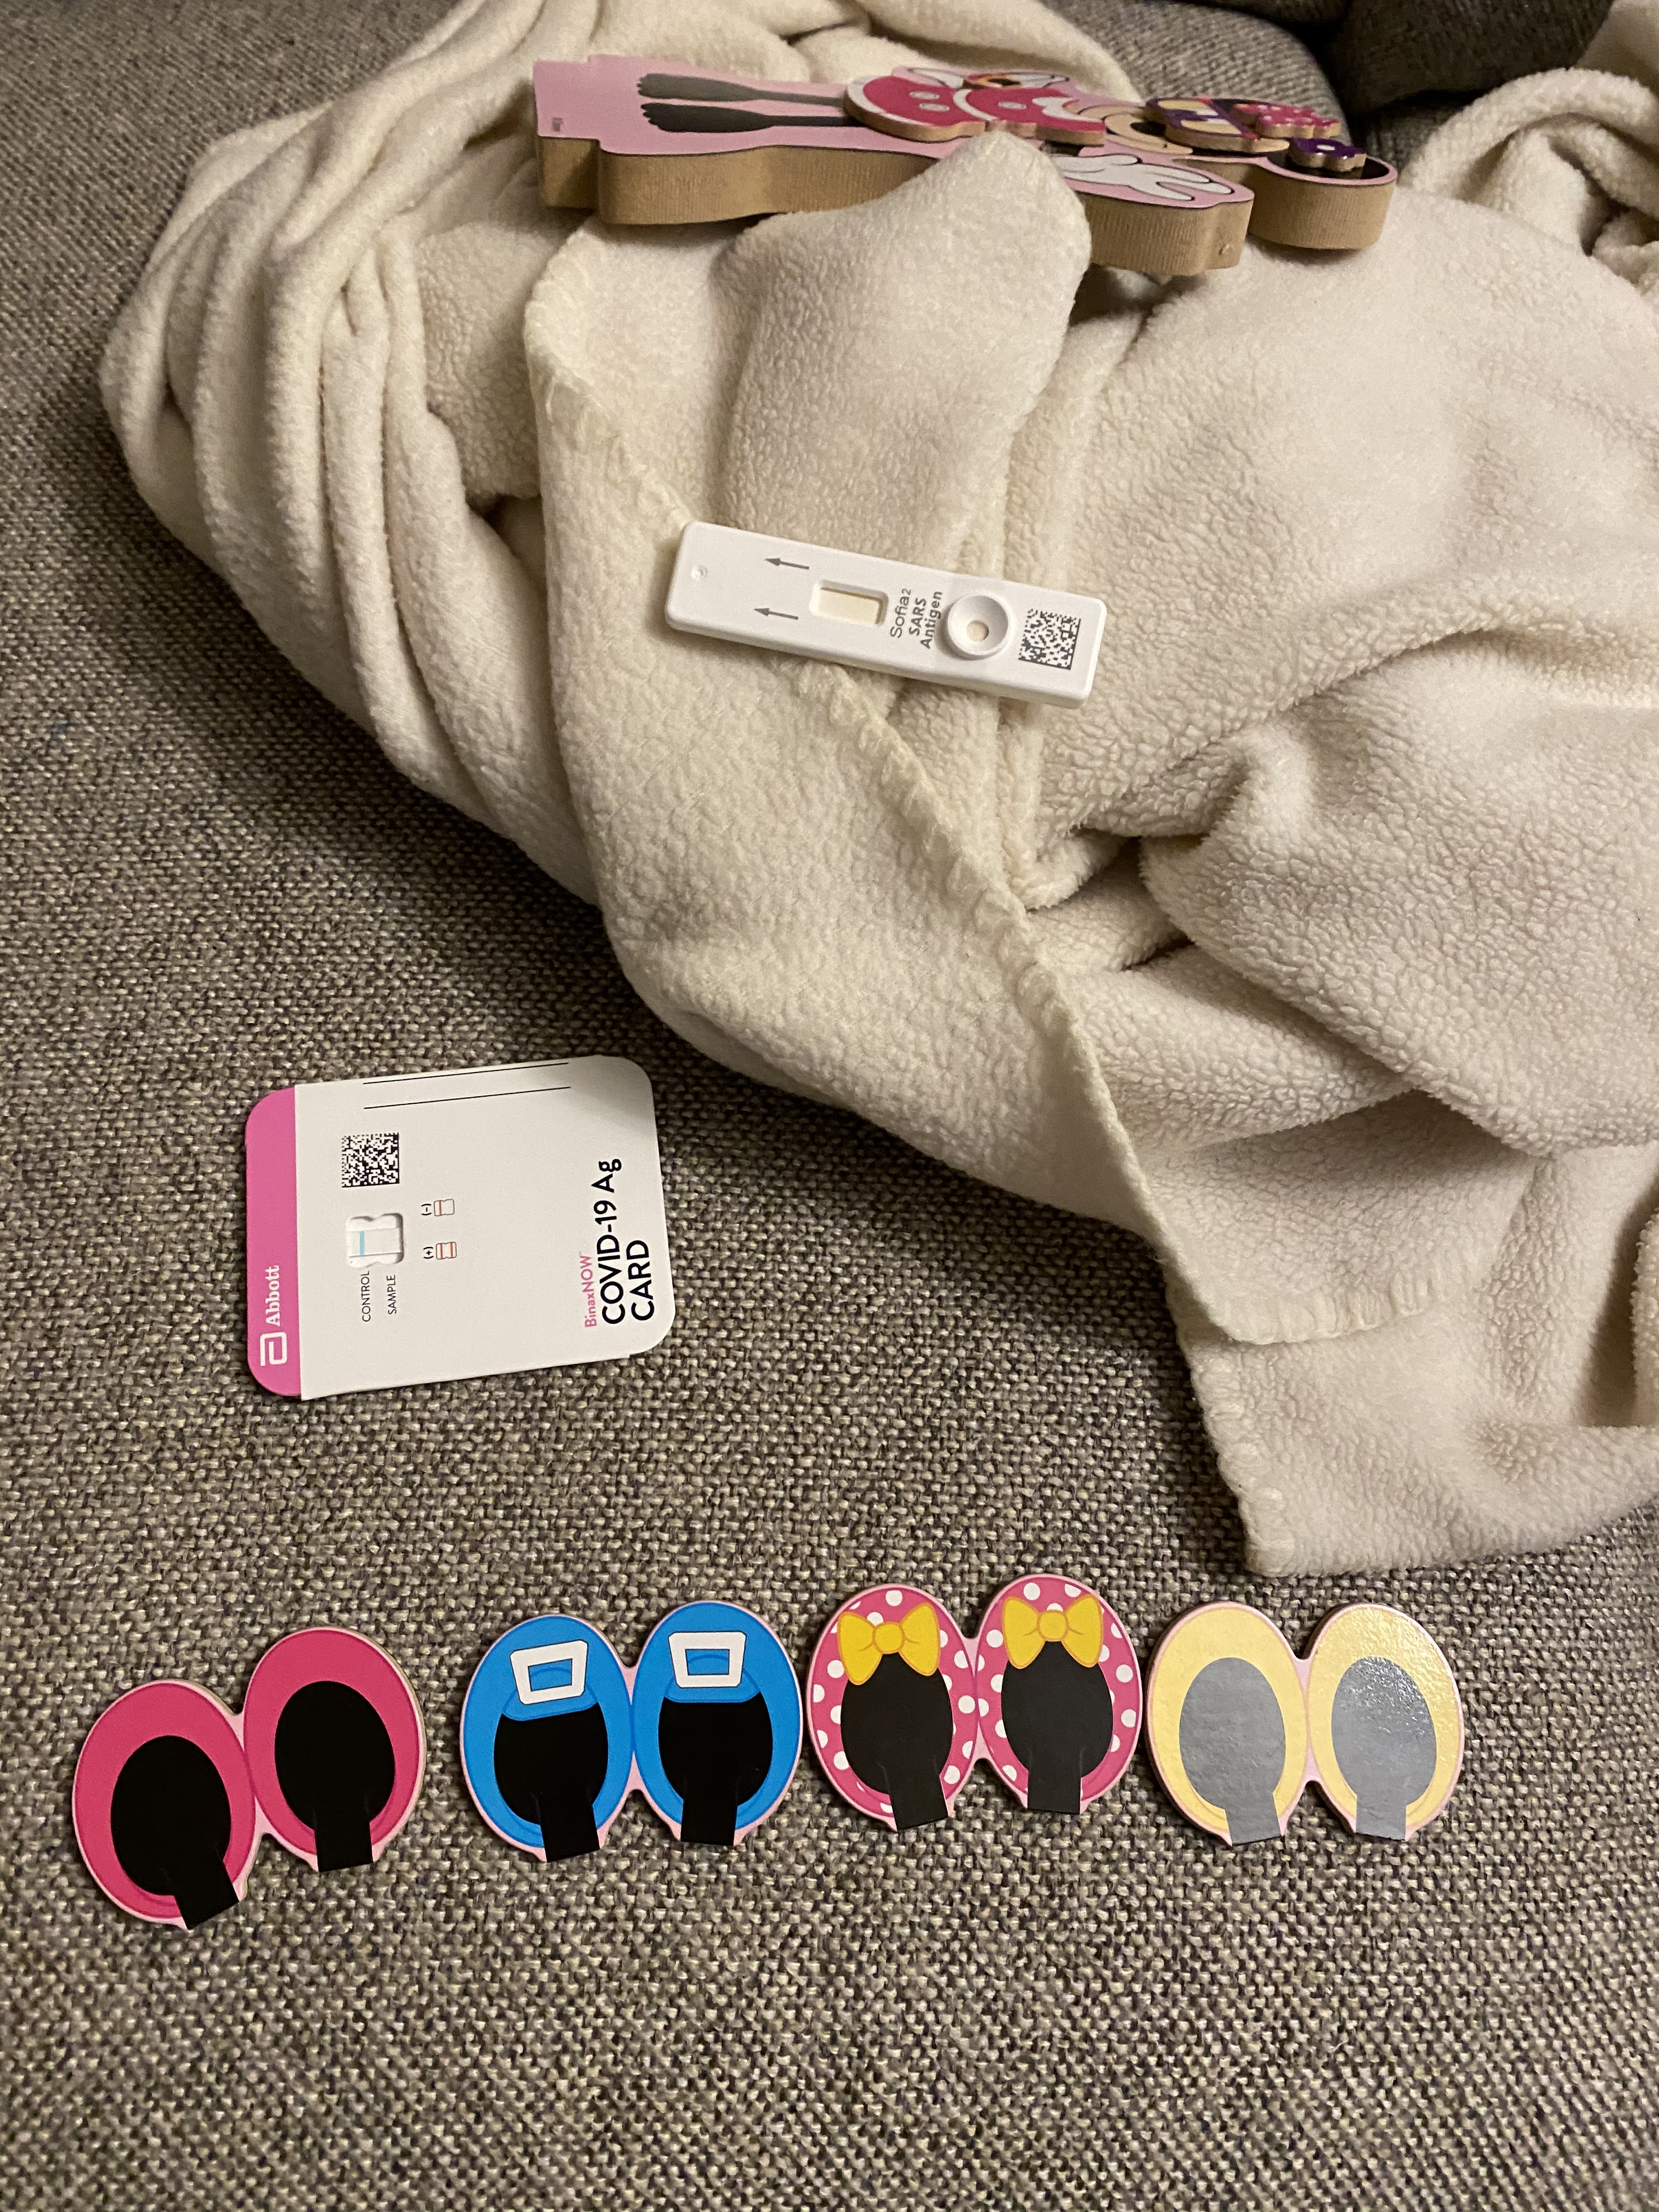binax: (230, 1047, 687, 1400)
quidel: (657, 509, 1115, 716)
